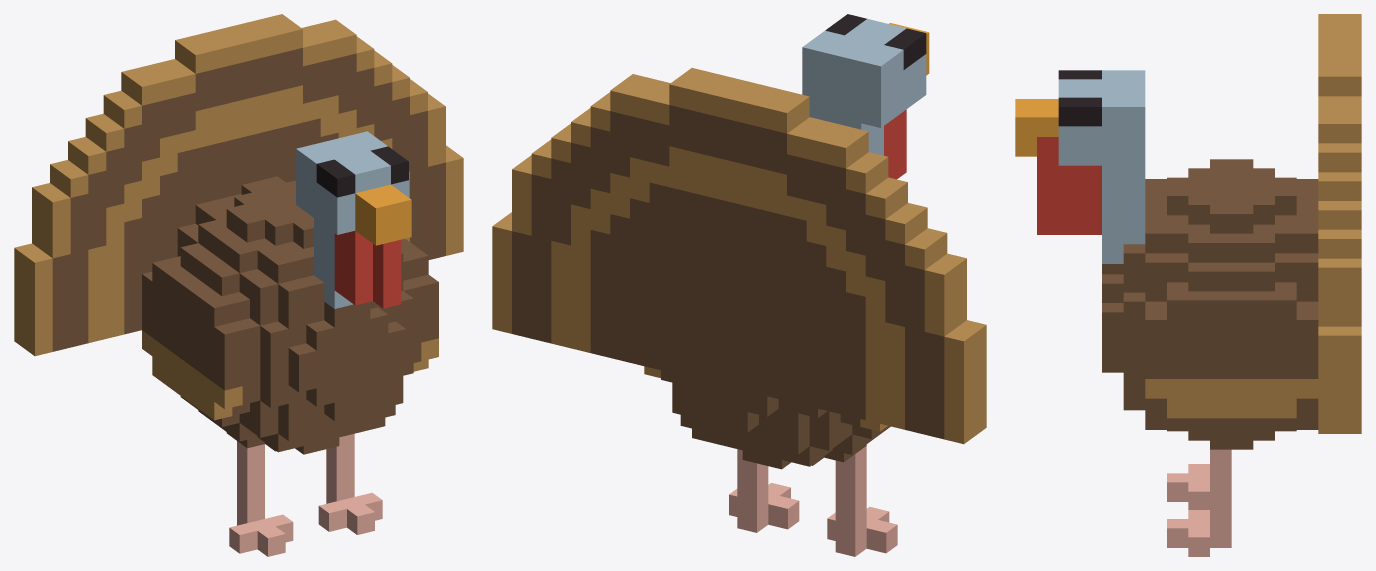
File: turkey.glb
3 renders of one model, left to right at view 1: azimuth 30°, elevation 25°; view 2: azimuth 150°, elevation 25°; view 3: azimuth 270°, elevation 25°, orthographic. The views are drawn at different scales.
Visible parts, largest first — view 1: turkey__tail, turkey__body, turkey__head, turkey__wing_r, turkey__leg_r, turkey__leg_l, turkey__wing_l; view 2: turkey__tail, turkey__head, turkey__body, turkey__leg_r, turkey__leg_l; view 3: turkey__body, turkey__wing_l, turkey__head, turkey__tail, turkey__leg_l, turkey__leg_r.
Boxes of the visible parts, x1,y1,x2,y2 form: turkey__tail: (14, 14, 463, 356); turkey__body: (177, 176, 413, 454); turkey__head: (296, 131, 411, 308); turkey__wing_r: (142, 256, 260, 420); turkey__leg_r: (229, 441, 293, 556); turkey__leg_l: (318, 433, 382, 534); turkey__wing_l: (401, 238, 438, 371); turkey__tail: (492, 68, 986, 444); turkey__head: (802, 14, 929, 179); turkey__body: (661, 370, 890, 469); turkey__leg_r: (827, 446, 897, 556); turkey__leg_l: (729, 449, 799, 532); turkey__body: (1102, 159, 1318, 449); turkey__wing_l: (1145, 282, 1318, 418); turkey__head: (1015, 70, 1145, 263); turkey__tail: (1318, 14, 1361, 433); turkey__leg_l: (1167, 449, 1231, 556); turkey__leg_r: (1167, 464, 1209, 509).
Bounding box in the file's own units: 2.4 × 2.4 × 1.6.
Materials: 1 (1 with a texture image).
